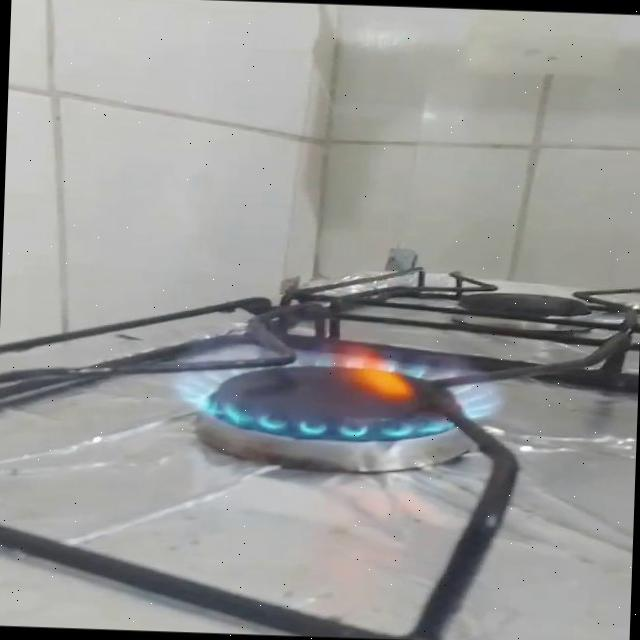fire: (165, 328, 513, 450)
